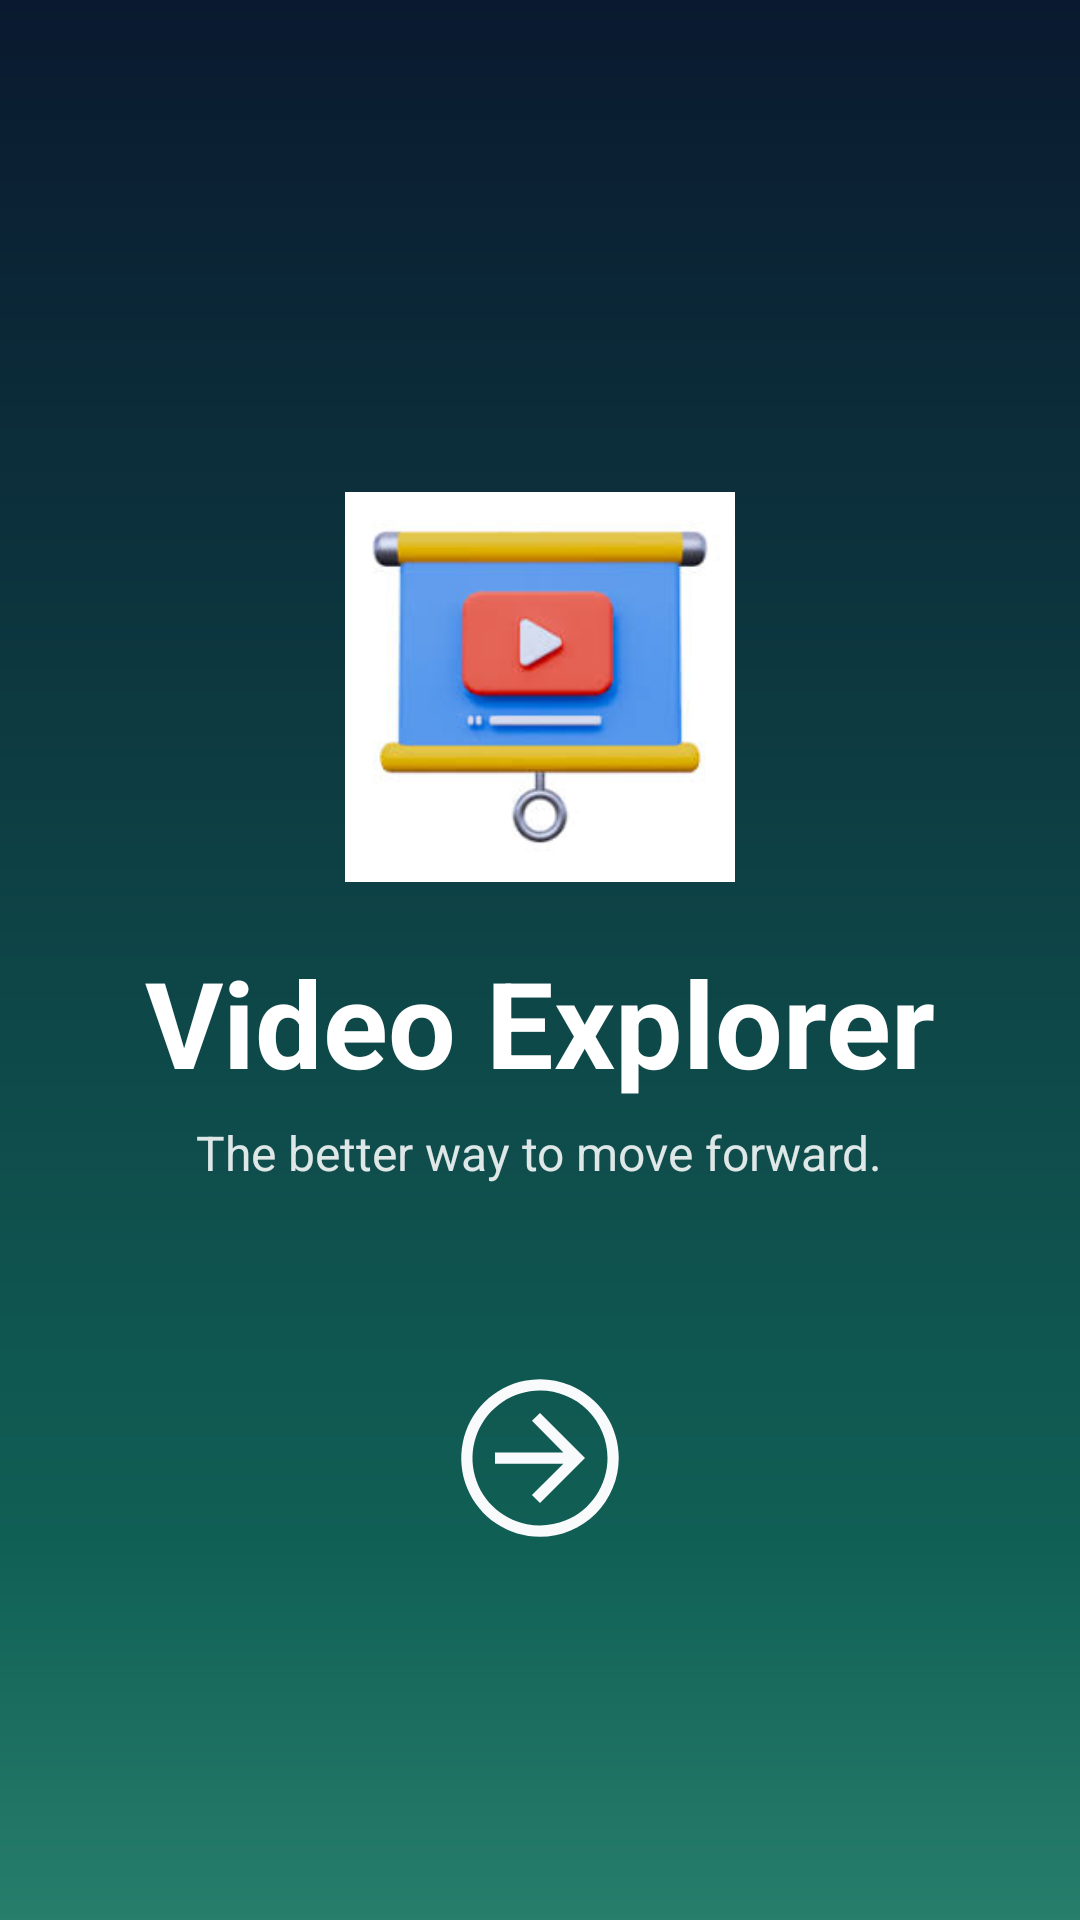

Point at icon controls on the screen. Image size 1080 x 1920, points as (x=x, y=y).
Arrow: (x=540, y=1458)
